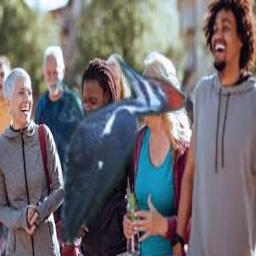Woodpecker: (55, 51, 185, 251)
